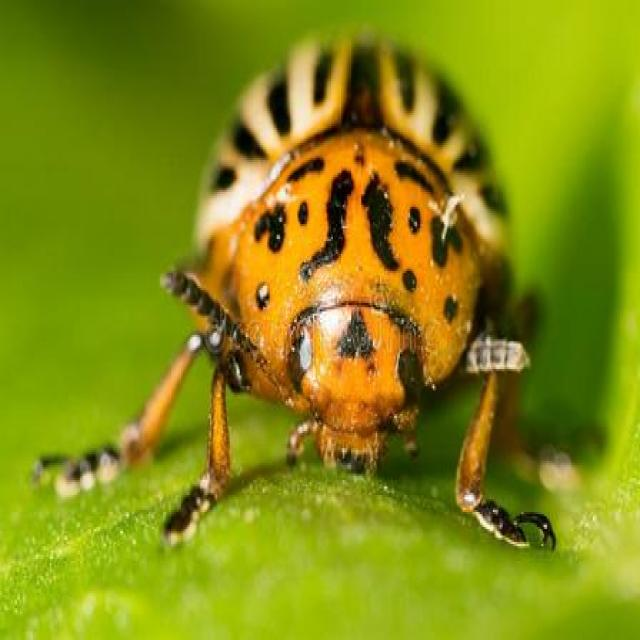ShuCaiHuaBanChong-Grown-: (188, 44, 588, 518)
